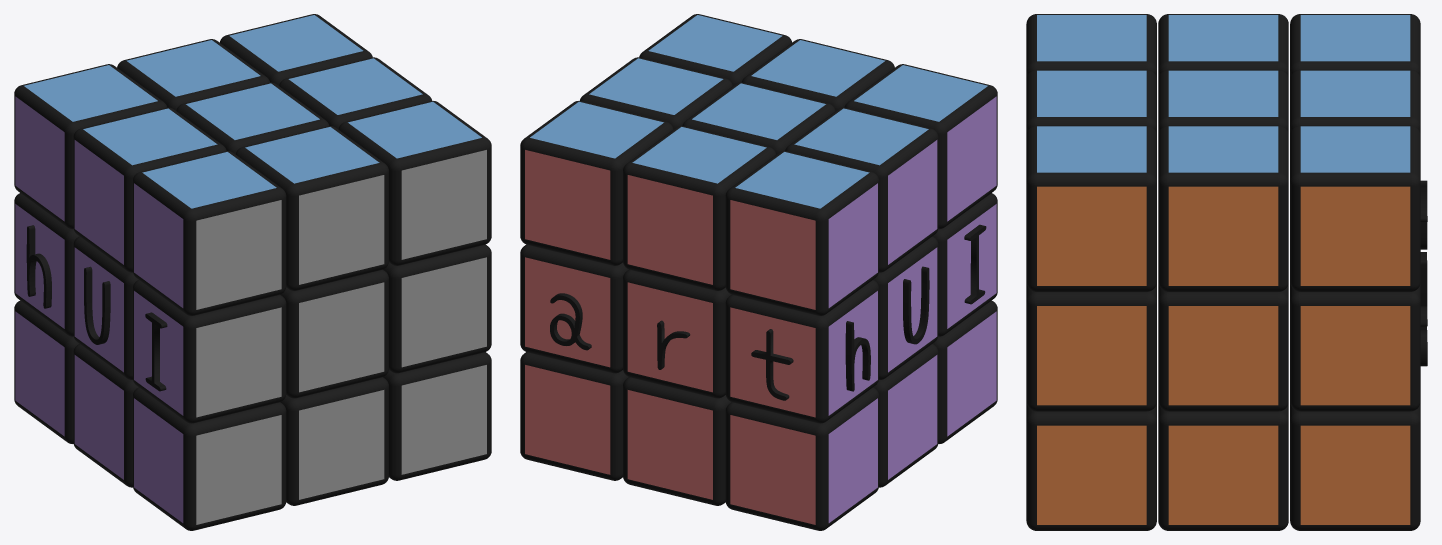
The model's file is rubix-title-only.glb.
The picture shows the model from 3 angles, left to right: view 1: azimuth 30°, elevation 25°; view 2: azimuth 150°, elevation 25°; view 3: azimuth 270°, elevation 25°; orthographic projection. The views are drawn at different scales.
Parts seen in each view (by area): view 1: Cube, Text.004, Text.005, Text.002; view 2: Cube, Text.004, Text.005, Text.003, Text, Text.002, Text.001; view 3: Cube, Text, Text.003.
Part boxes in pixels (x1=…): Cube: x1=14, y1=14, x2=491, y2=530; Text.004: x1=84, y1=266, x2=110, y2=344; Text.005: x1=26, y1=225, x2=51, y2=308; Text.002: x1=145, y1=312, x2=167, y2=391; Cube: x1=520, y1=14, x2=997, y2=530; Text.004: x1=903, y1=266, x2=929, y2=344; Text.005: x1=845, y1=321, x2=870, y2=391; Text.003: x1=550, y1=293, x2=591, y2=350; Text: x1=751, y1=329, x2=793, y2=400; Text.002: x1=964, y1=224, x2=986, y2=304; Text.001: x1=657, y1=320, x2=690, y2=369; Cube: x1=1026, y1=14, x2=1420, y2=530; Text: x1=1420, y1=180, x2=1427, y2=249; Text.003: x1=1420, y1=306, x2=1427, y2=366.
Bounding box in the file's own units: 6.15 × 6.04 × 6.15.
